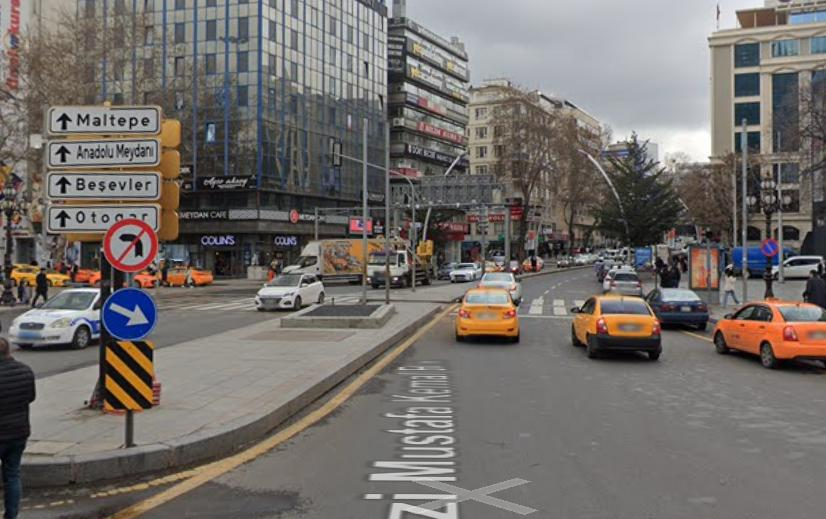leftturnsareforbidden: (101, 217, 161, 276)
